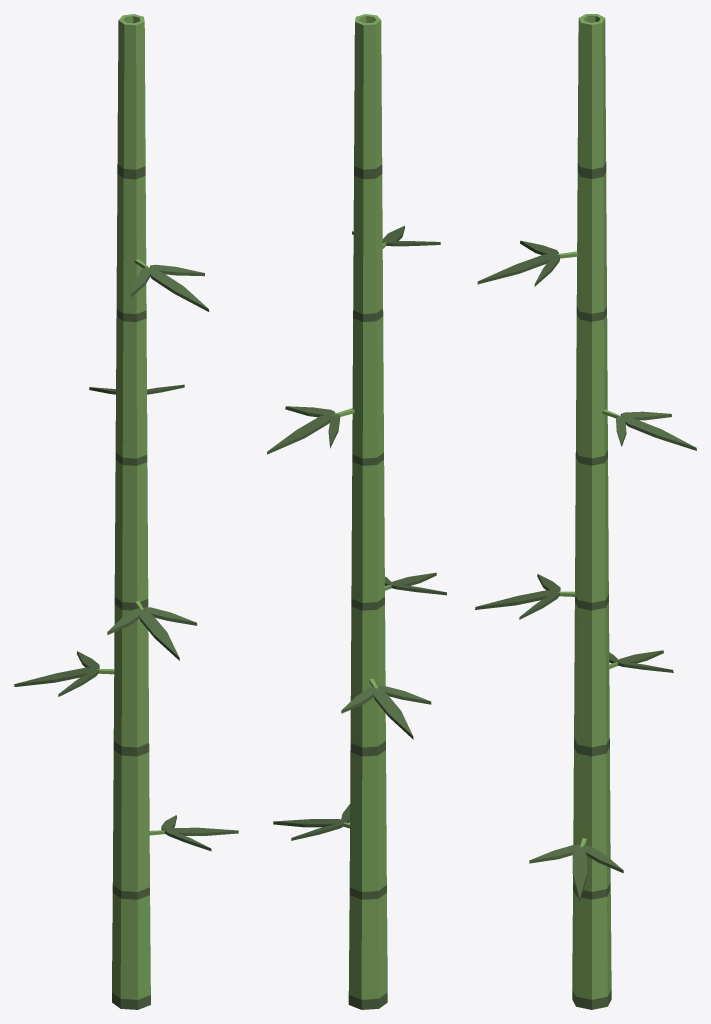
File: Bamboo_4.glb
3 renders of one model, left to right at view 1: azimuth 30°, elevation 25°; view 2: azimuth 150°, elevation 25°; view 3: azimuth 270°, elevation 25°, orthographic.
Visible parts, largest first — view 1: Bamboo_4; view 2: Bamboo_4; view 3: Bamboo_4.
Part boxes in pixels (left/top/right/bottom): Bamboo_4: left=14, top=14, right=238, bottom=1009; Bamboo_4: left=267, top=14, right=446, bottom=1009; Bamboo_4: left=475, top=14, right=696, bottom=1009.
Bounding box in the file's own units: 0.5299 × 2.73 × 0.5582.
